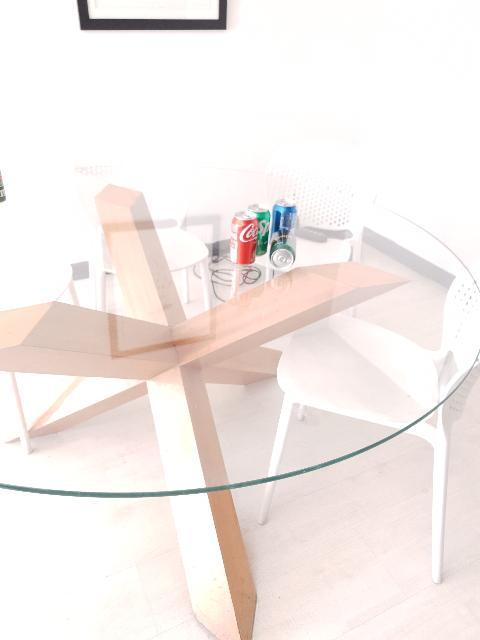coke: (229, 210, 255, 264)
pepsi: (274, 198, 296, 238)
schweppes: (270, 226, 298, 268)
sprite: (251, 204, 273, 256)
